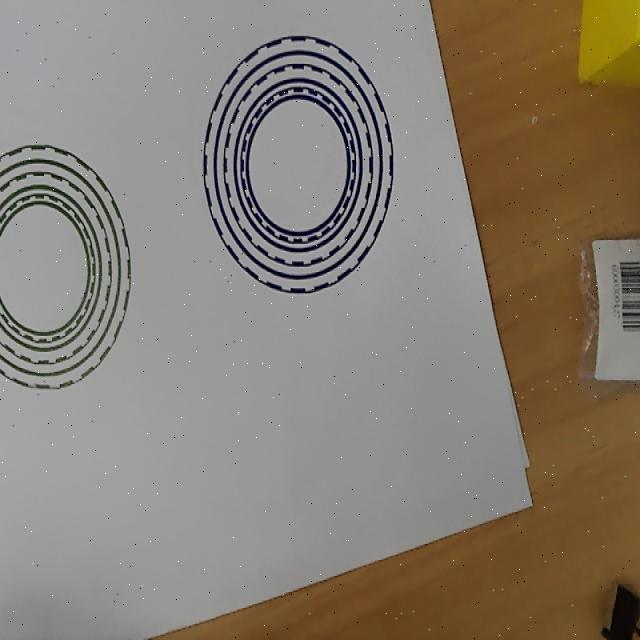b: (202, 35, 394, 295)
